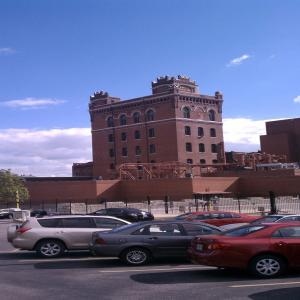Vehicle-registration-plate: (195, 245, 207, 252), (199, 246, 205, 253)
